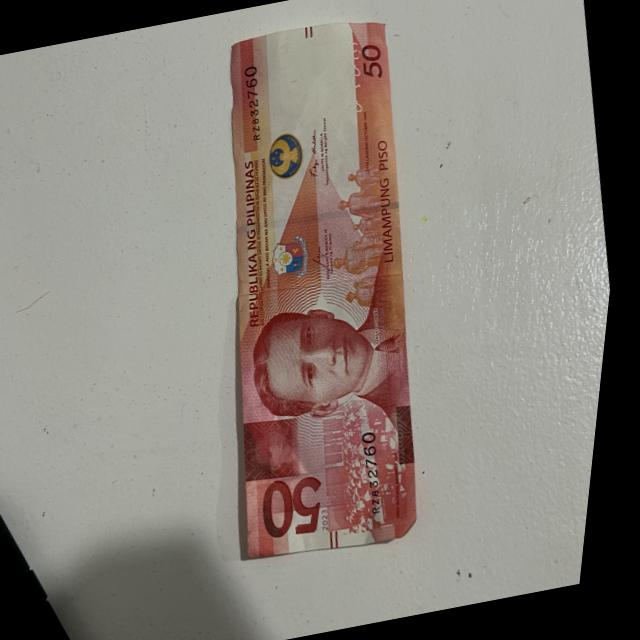concealed_value: (244, 416, 319, 482)
security_thread: (232, 180, 407, 247)
see_through_mark: (334, 26, 378, 124)
serial_number: (352, 425, 408, 527), (226, 52, 282, 154)
value: (259, 470, 350, 550)
